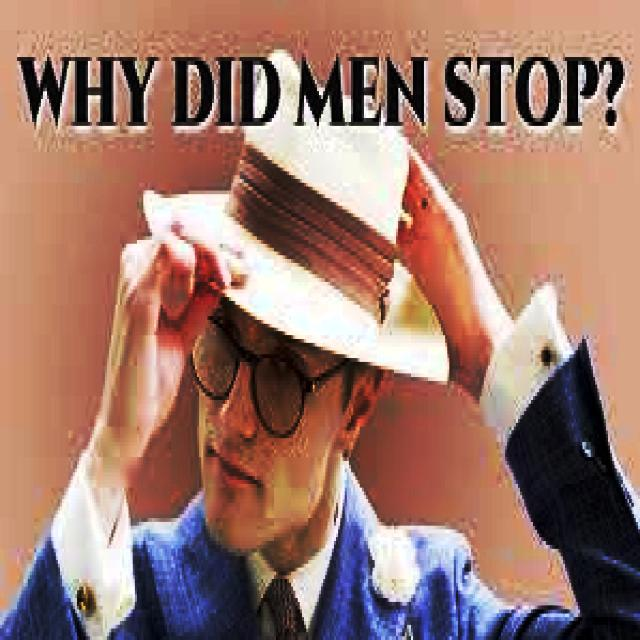TOPI: (137, 38, 449, 396)
